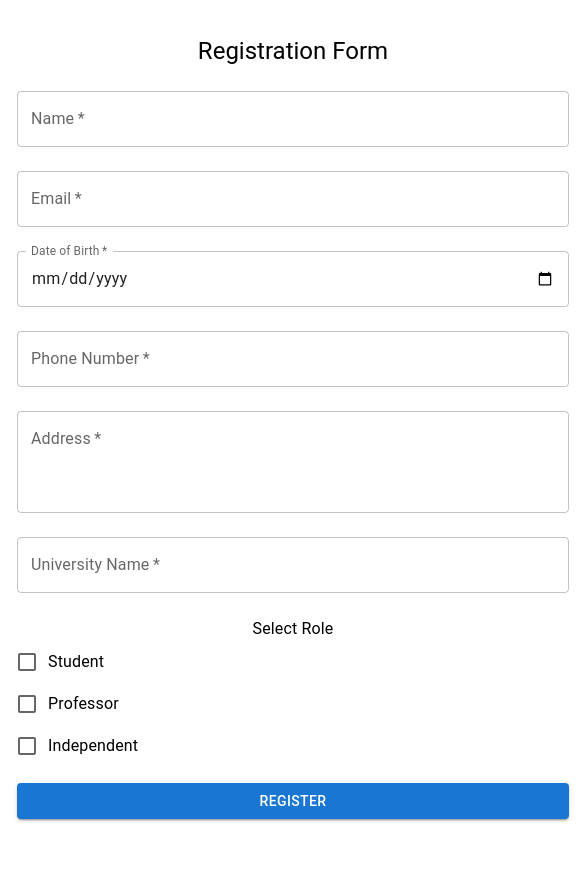
Test: Registration Form Component › SHOWS ERRORS for invalid input
Fill invalid data but valid enough for browser validation (except required fields)
Type "ab" into the field labelled "Name *" at [293, 119], box [17,91,569,147]
Type "test@example.com" into the field labelled "Email *" at [293, 199], box [17,171,569,227]
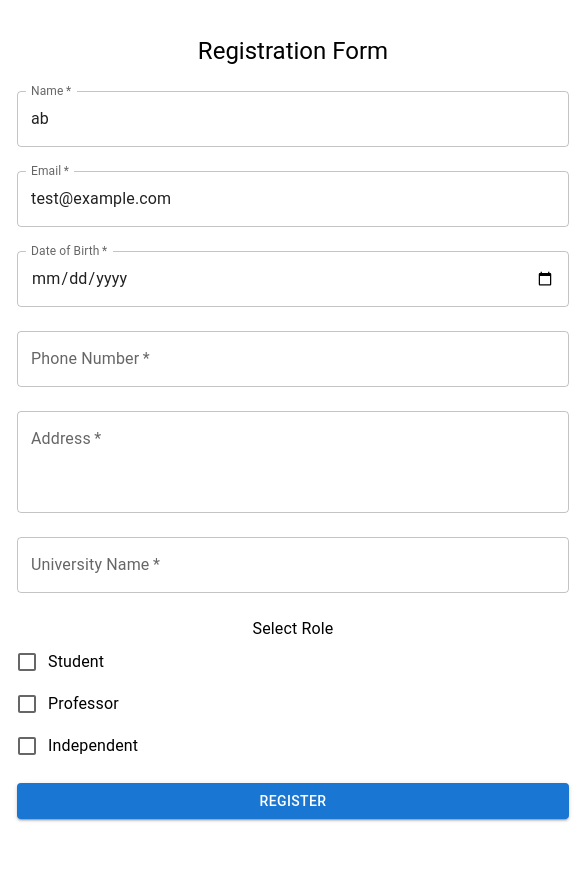
Type "2020-01-01" into the date field labelled "Date of Birth *" at [293, 279], box [17,251,569,307]
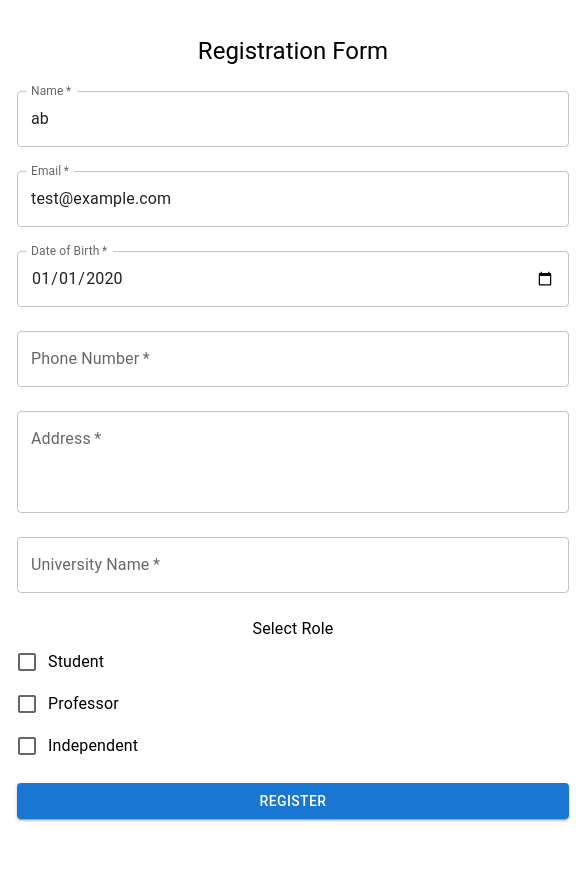
Type "123" into the field labelled "Phone Number *" at [293, 359], box [17,331,569,387]
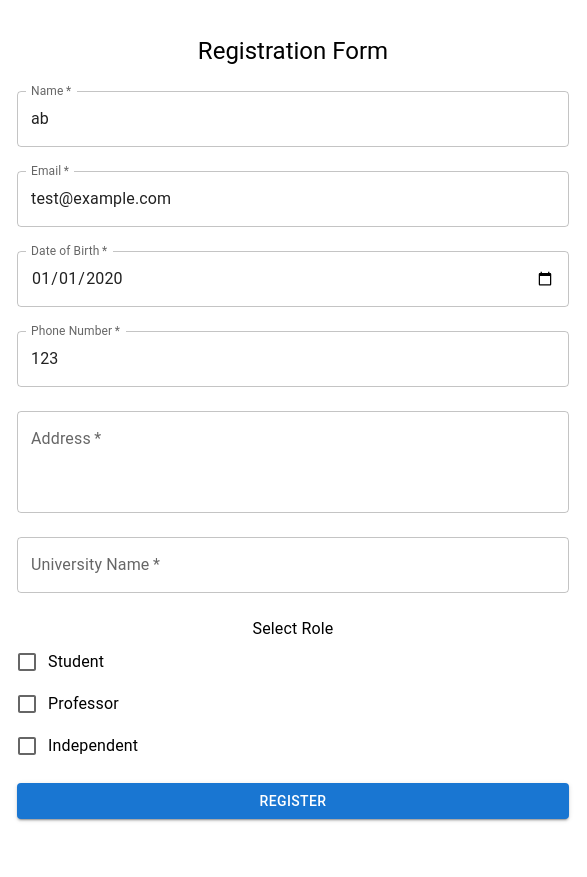
Type "abc" into the text box labelled "Address *" at [293, 462], box [31,428,555,496]
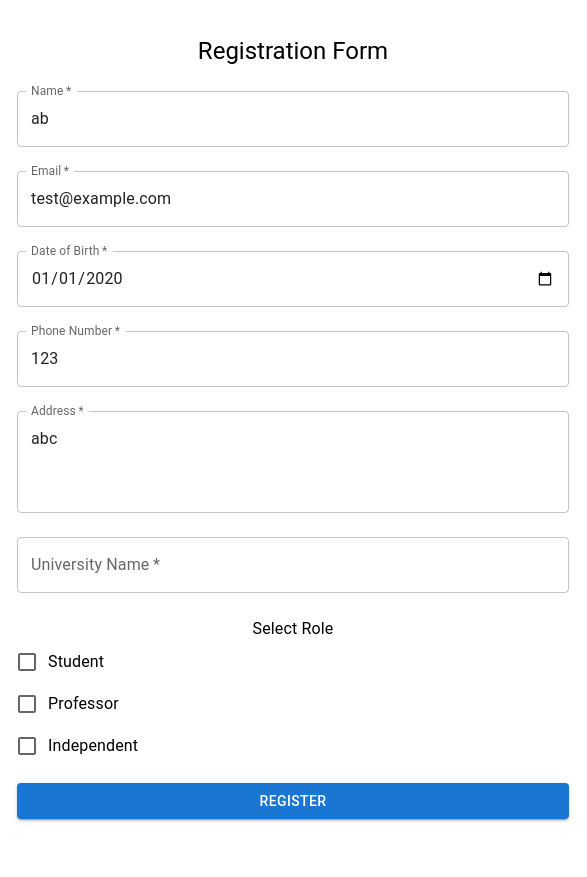
Type "a" into the field labelled "University Name *" at [293, 565], box [17,537,569,593]
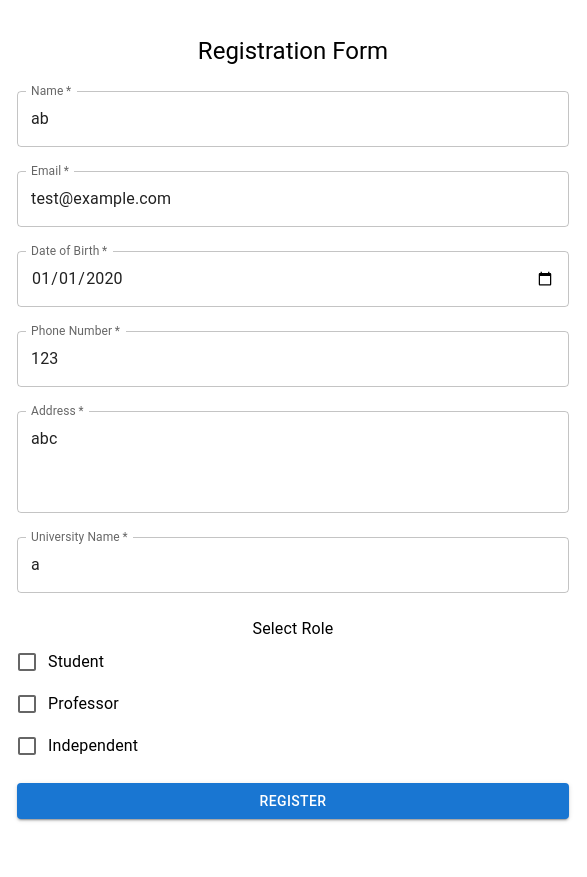
Click the button "Register" at [293, 801], box [17,783,569,820]
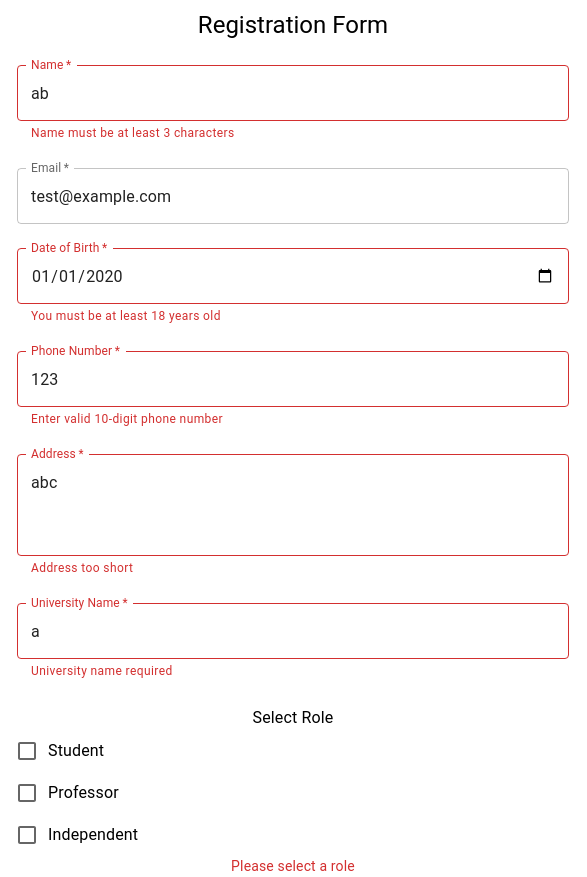
expect the text "Name must be at least 3 characters" is shown: met, box [31,126,234,140]
expect the text "You must be at least 18 years old" is shown: met, box [31,309,221,323]
expect the text "Enter valid 10-digit phone number" is shown: met, box [31,412,223,426]
